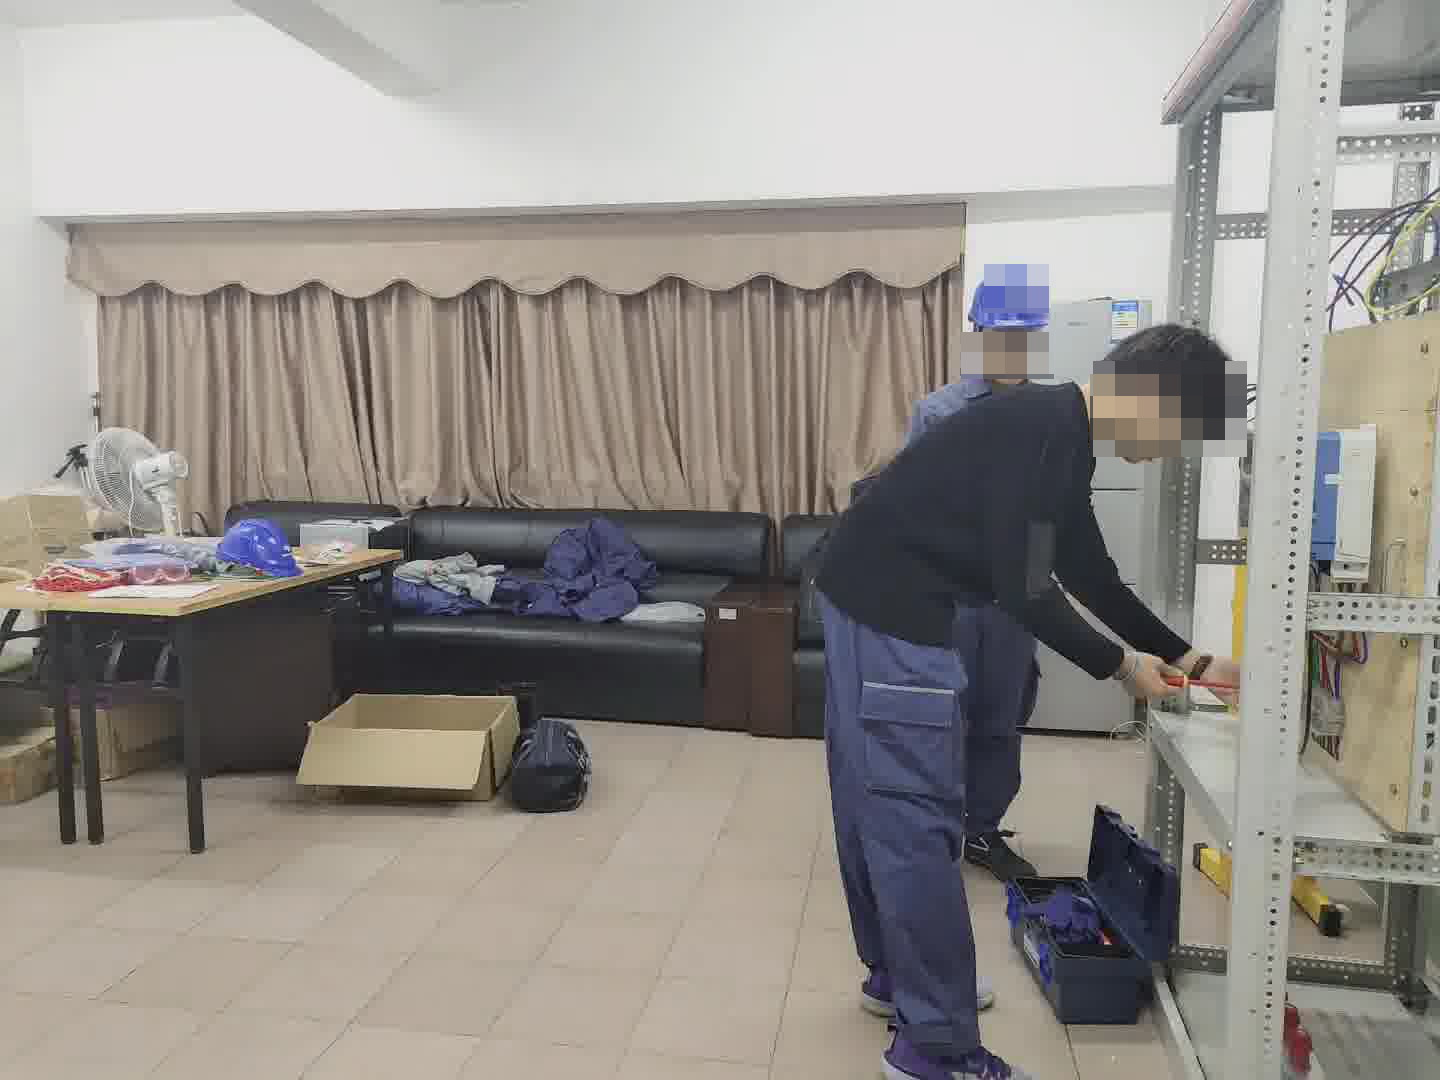downsuit: (820, 658, 990, 1050)
halt: (963, 264, 1057, 389)
hand: (1121, 646, 1239, 717)
noear: (1122, 367, 1179, 437)
person: (801, 259, 1238, 1080)
unhalt: (1084, 320, 1241, 473)
upcloth: (806, 379, 1187, 650)
